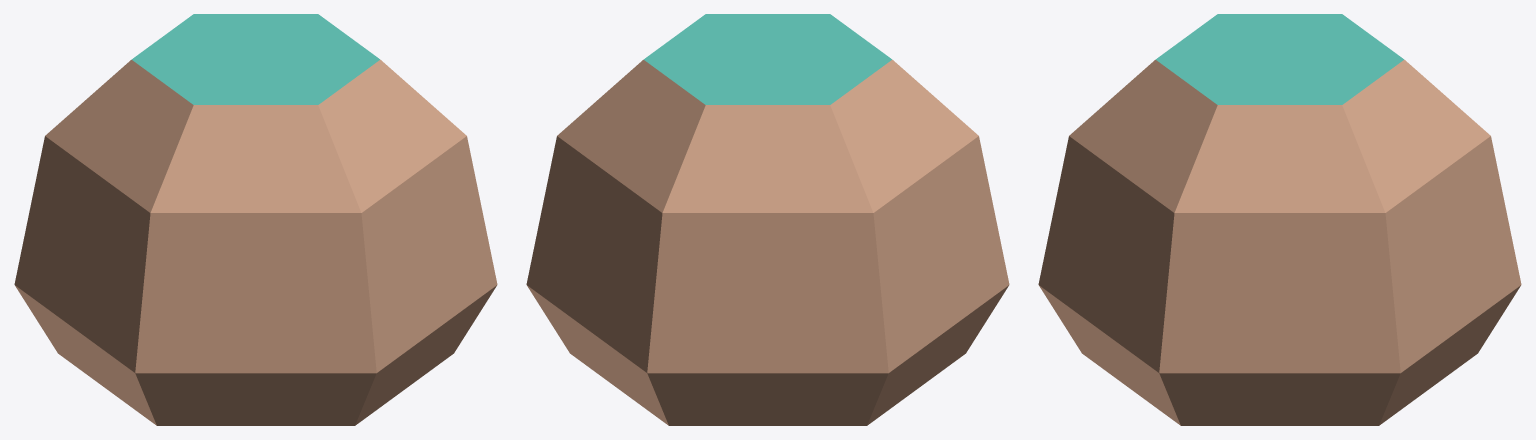
File: rock_smallI.glb
The picture shows the model from 3 angles, left to right: view 1: azimuth 30°, elevation 25°; view 2: azimuth 150°, elevation 25°; view 3: azimuth 270°, elevation 25°; orthographic projection.
Visible parts, largest first — view 1: rock_smallI; view 2: rock_smallI; view 3: rock_smallI.
Part boxes in pixels (x1=…): rock_smallI: x1=14, y1=14, x2=497, y2=425; rock_smallI: x1=526, y1=14, x2=1009, y2=425; rock_smallI: x1=1038, y1=14, x2=1521, y2=425.
Size of the model in its own units: 0.3583 by 0.2778 by 0.4138.
